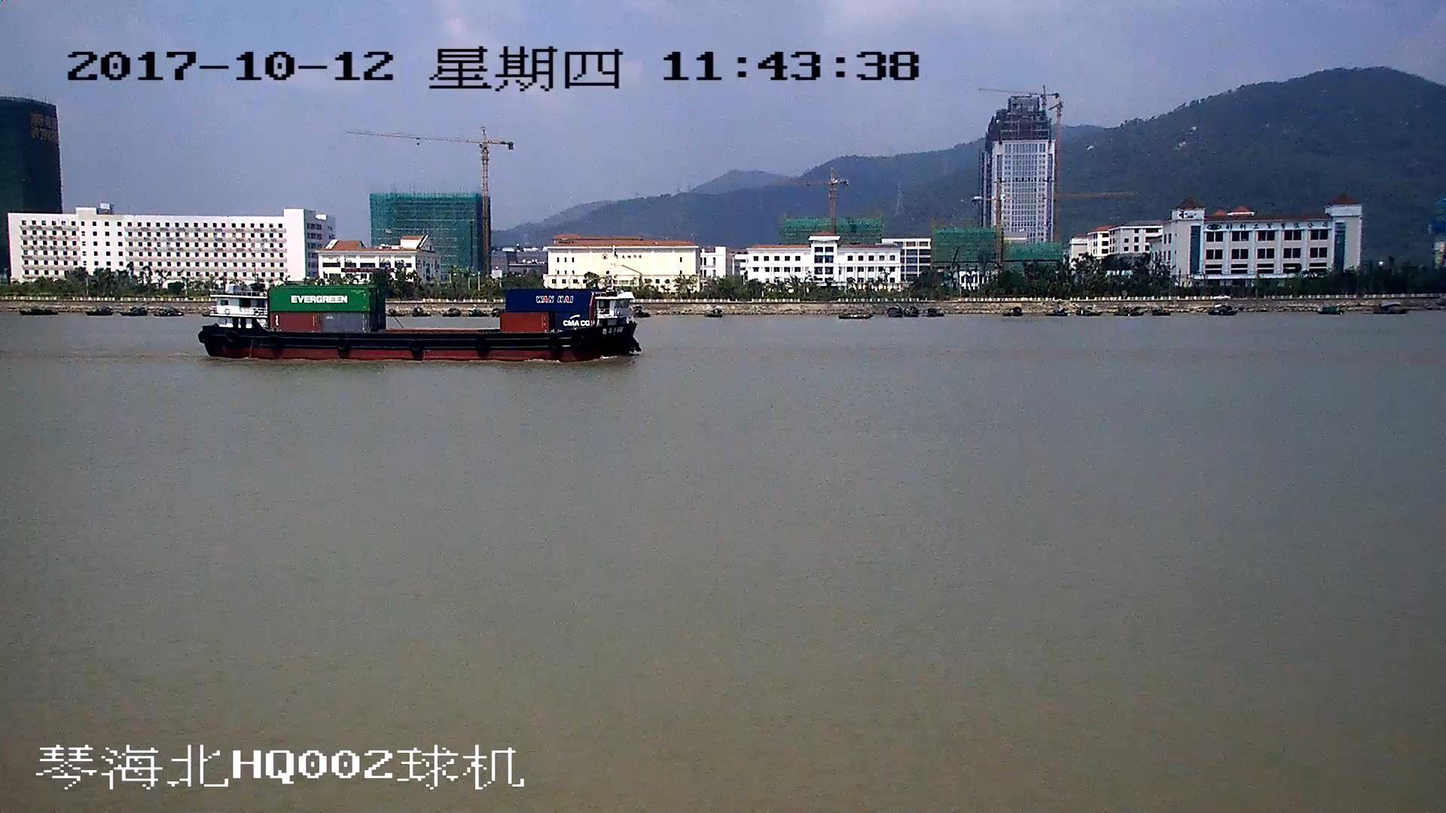container ship: (200, 282, 636, 363)
